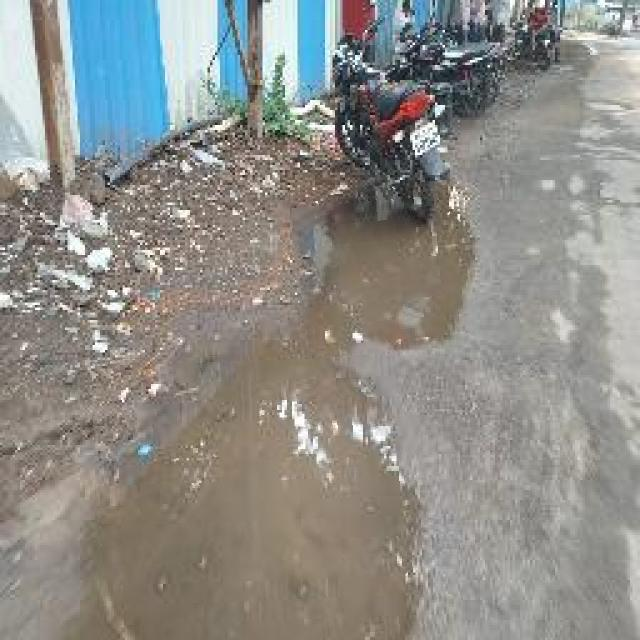puddle: (94, 352, 460, 640), (294, 183, 475, 356)
